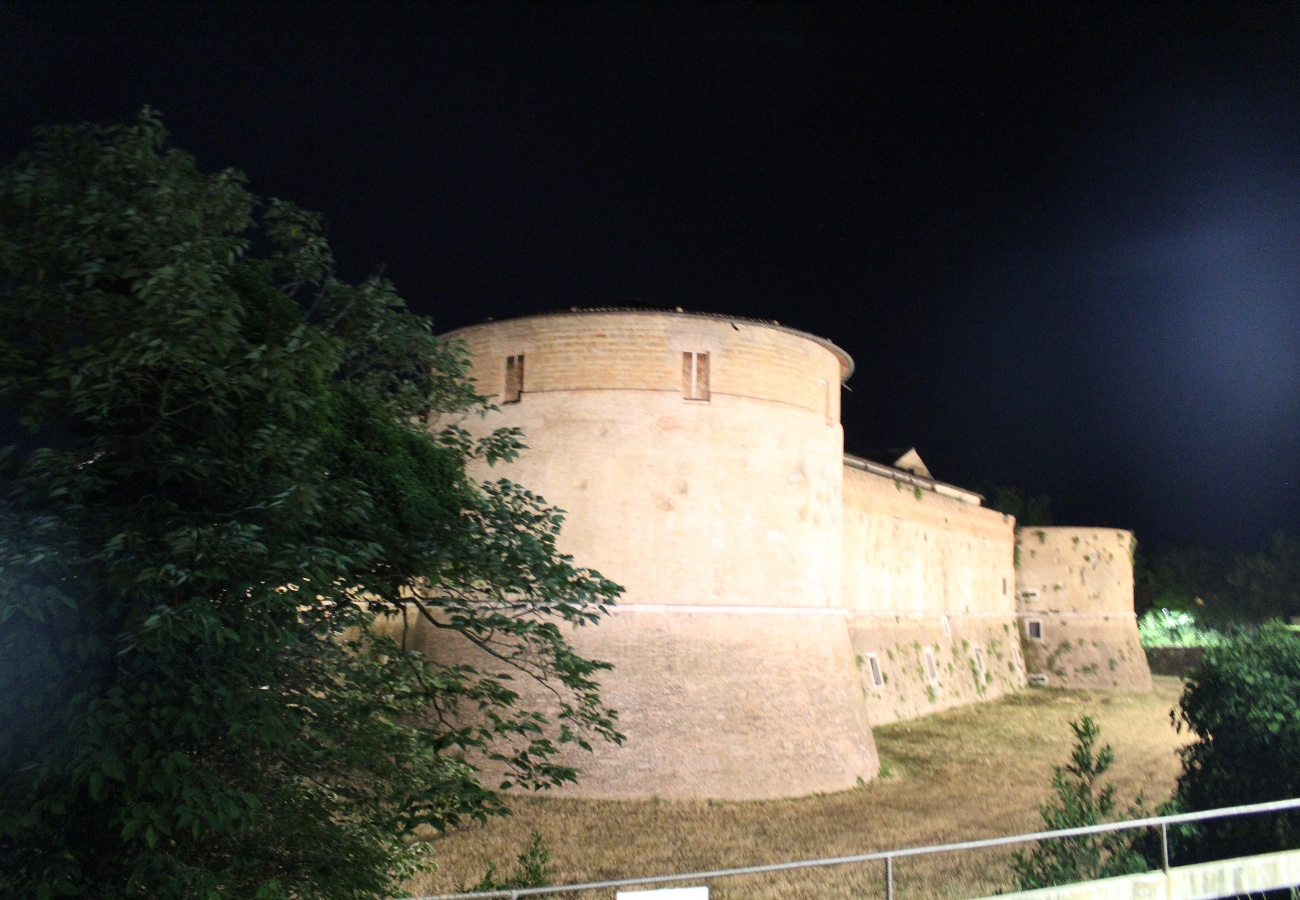Rocca Costanza: (440, 306, 1156, 804)
